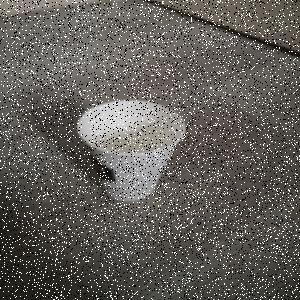Cup: (76, 100, 188, 204)
